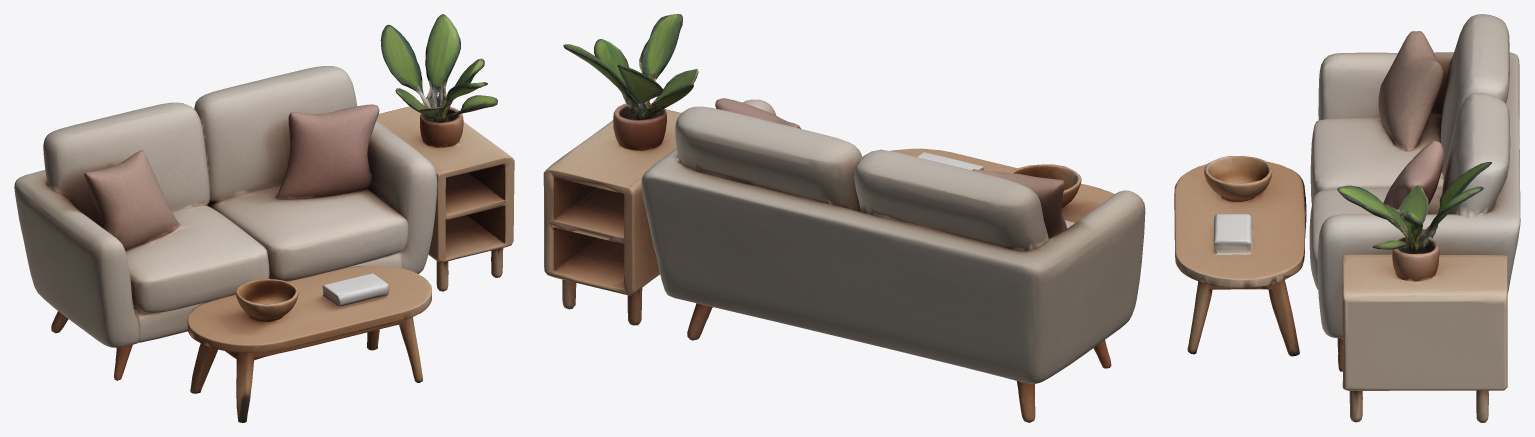
Rendered from furniture.glb.
3 renders of one model, left to right at view 1: azimuth 30°, elevation 25°; view 2: azimuth 150°, elevation 25°; view 3: azimuth 270°, elevation 25°, orthographic. The views are drawn at different scales.
Visible parts, largest first — view 1: geometry_0; view 2: geometry_0; view 3: geometry_0.
Boxes of the visible parts, box(x1,y1,x2,y2) form: geometry_0: box(14, 14, 514, 422); geometry_0: box(543, 14, 1145, 422); geometry_0: box(1174, 14, 1520, 422).
Bounding box in the file's own units: 0.9969 × 0.516 × 0.6479.
Materials: 1 (1 with a texture image).
